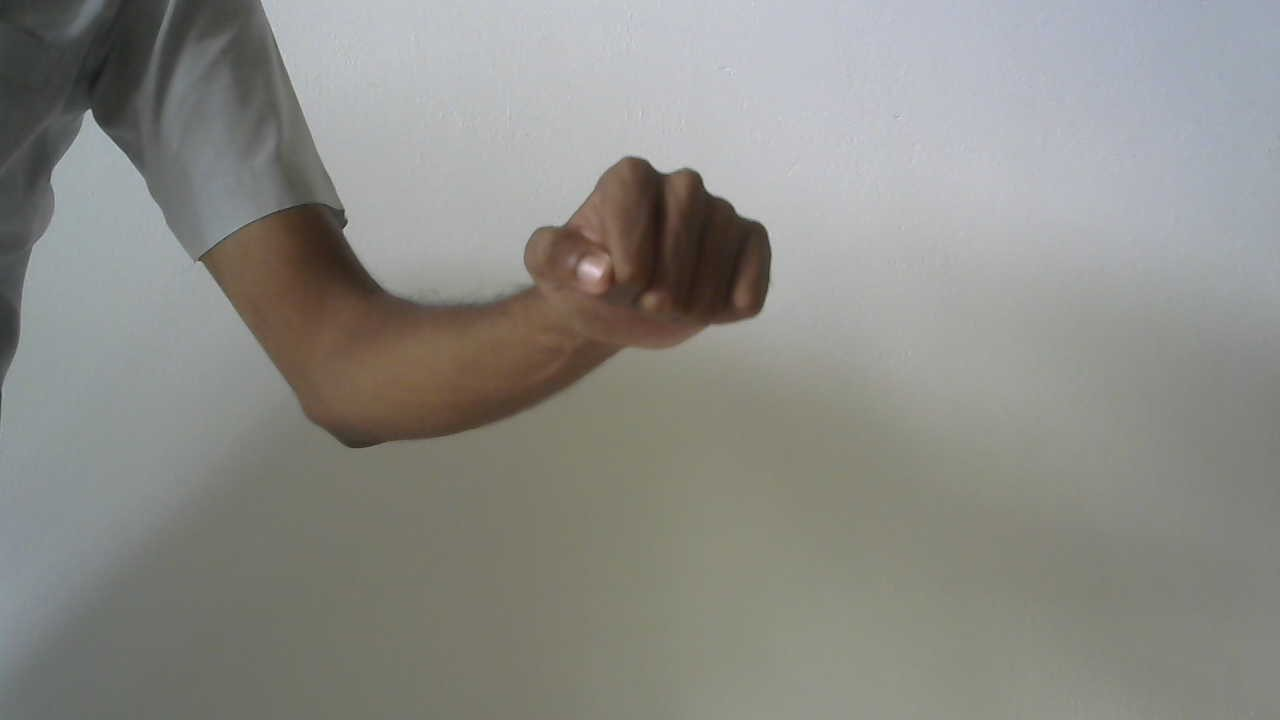yes: (499, 135, 809, 393)
